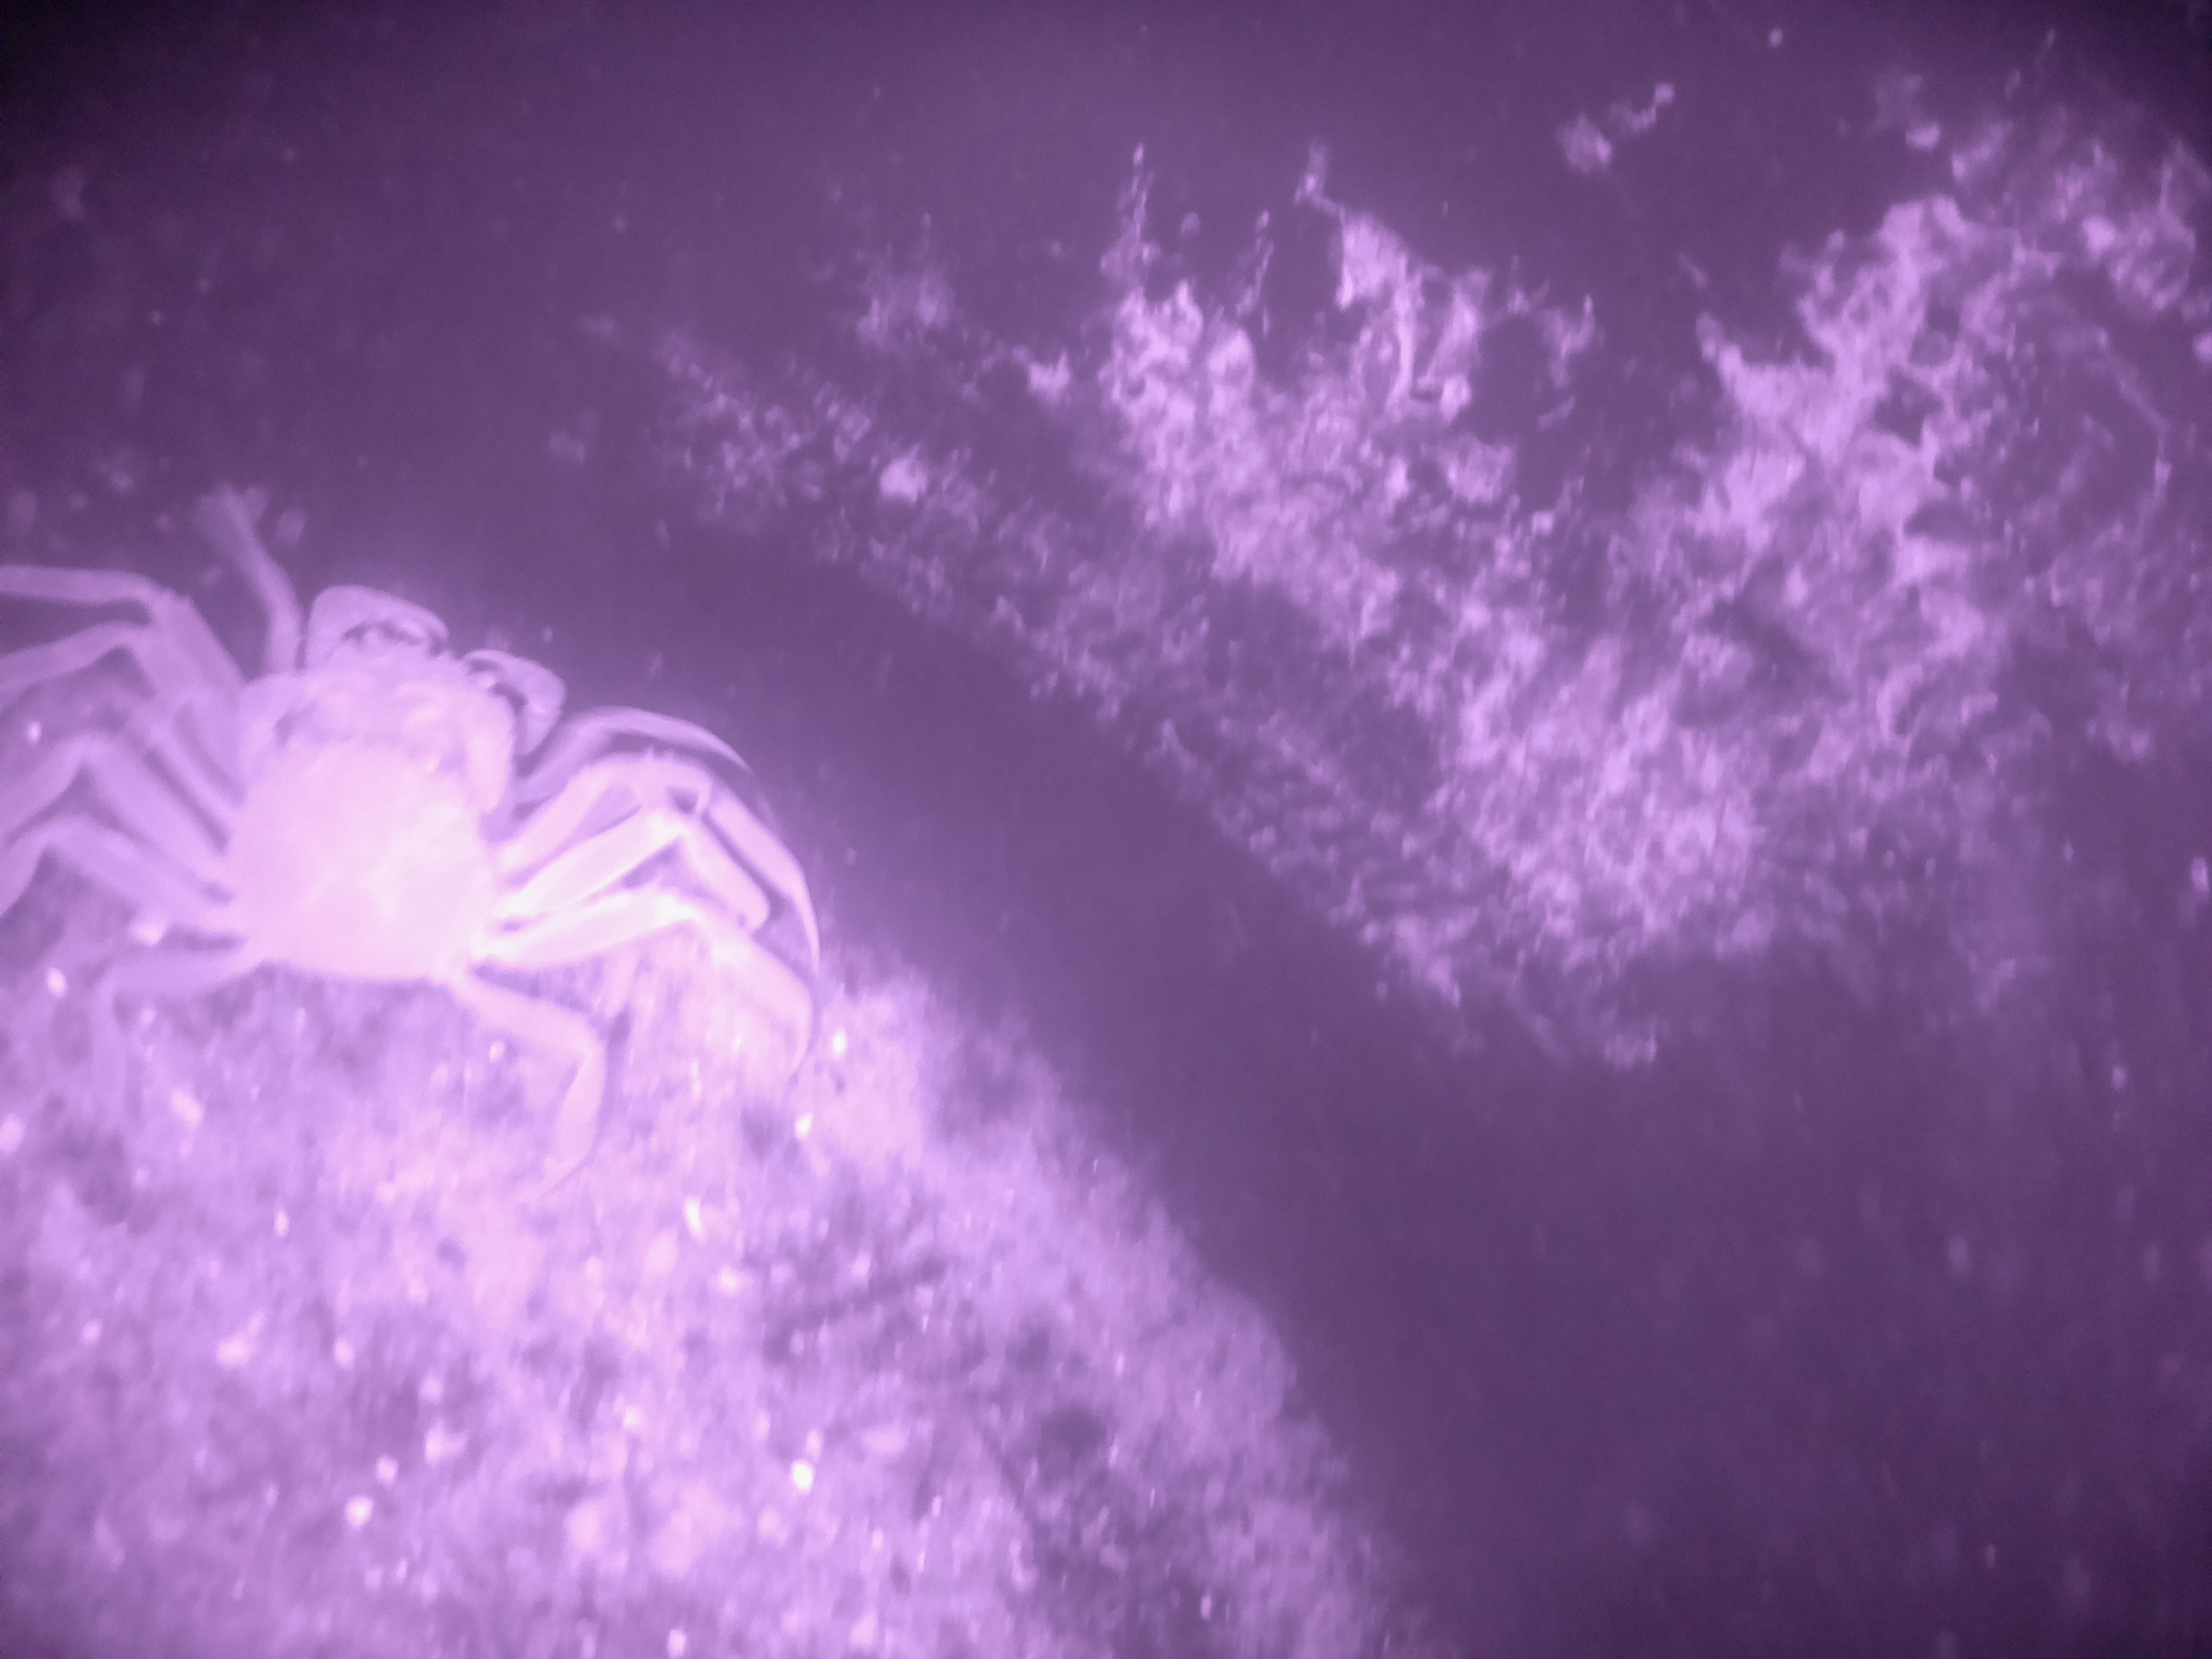Crab: (120, 626, 578, 1082)
